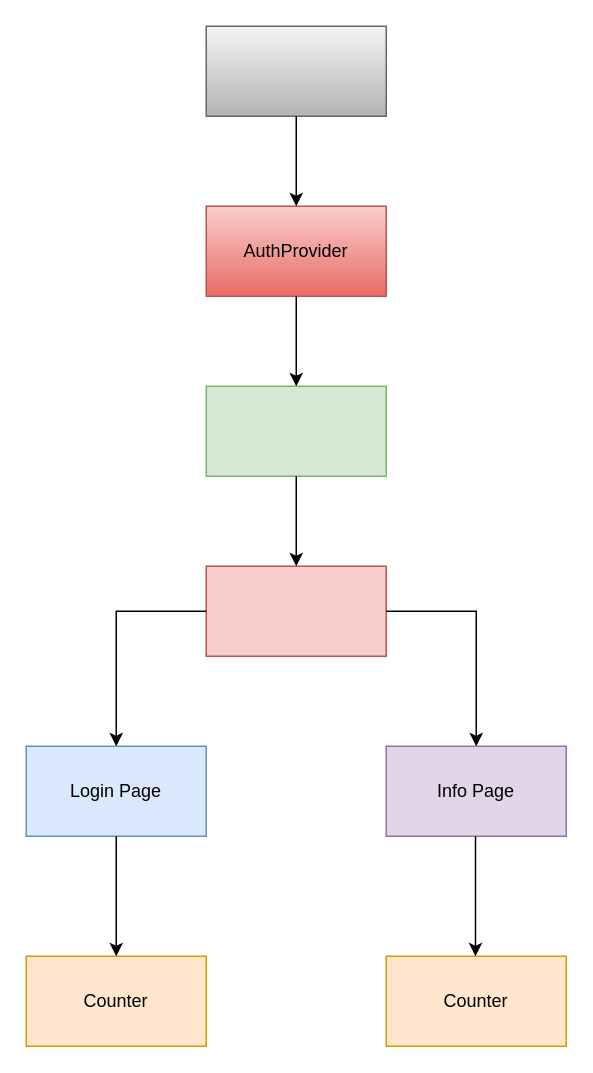
The diagram is 593 pixels wide and 1073 high, and some of its shapes have lost their labels. The shapes that lost their labels are listed below. From the top down, each one's box as (x1, y1, x2, y2) in pixels, then its label:
(205, 25, 386, 116): index.js
(205, 385, 386, 476): App
(205, 565, 386, 656): CounterProvider
